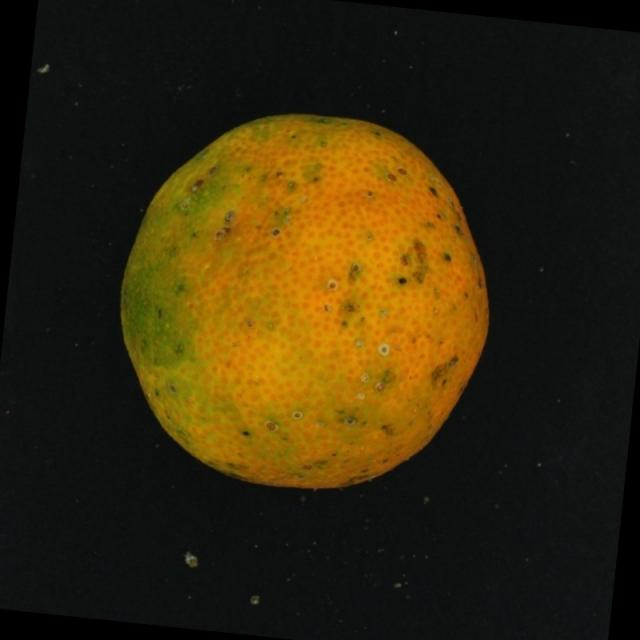grenning: (114, 98, 515, 503)
